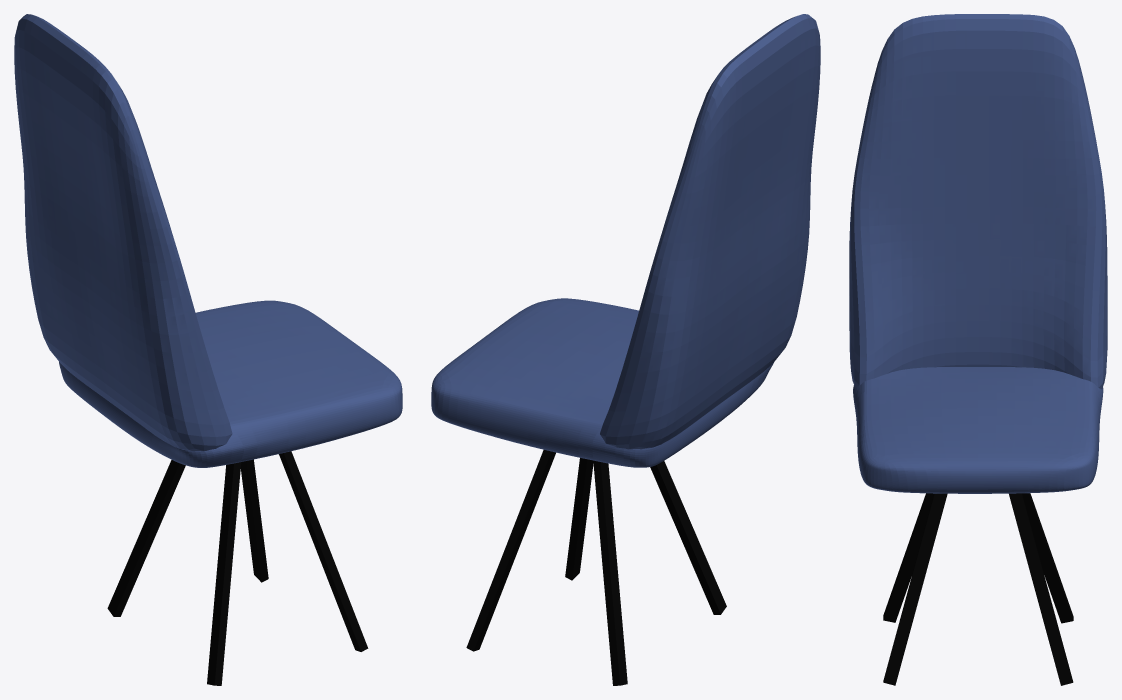
Rendered from chair6.glb.
3 renders of one model, left to right at view 1: azimuth 30°, elevation 25°; view 2: azimuth 150°, elevation 25°; view 3: azimuth 270°, elevation 25°, orthographic. The views are drawn at different scales.
Visible parts, largest first — view 1: Cube_1_2, Cube_2_2, Cube_1, Cube, Cube_3, Cube_2; view 2: Cube_1_2, Cube_2_2, Cube_3, Cube_2, Cube_1, Cube; view 3: Cube_1_2, Cube_2_2, Cube, Cube_2, Cube_3, Cube_1.
Part boxes in pixels (box(x1,y1,x2,y2)): Cube_1_2: box(14, 14, 232, 451); Cube_2_2: box(59, 300, 402, 467); Cube_1: box(207, 462, 241, 685); Cube: box(279, 451, 368, 651); Cube_3: box(107, 460, 185, 616); Cube_2: box(240, 459, 268, 582); Cube_1_2: box(600, 14, 820, 449); Cube_2_2: box(431, 298, 773, 467); Cube_3: box(593, 460, 627, 685); Cube_2: box(466, 450, 555, 651); Cube_1: box(650, 461, 726, 614); Cube: box(565, 458, 593, 580); Cube_1_2: box(849, 14, 1107, 389); Cube_2_2: box(853, 367, 1103, 493); Cube: box(883, 493, 947, 685); Cube_2: box(1009, 493, 1073, 685); Cube_3: box(1022, 493, 1073, 623); Cube_1: box(883, 493, 933, 622).
Bounding box in the file's own units: 0.482 × 0.9929 × 0.4106.
